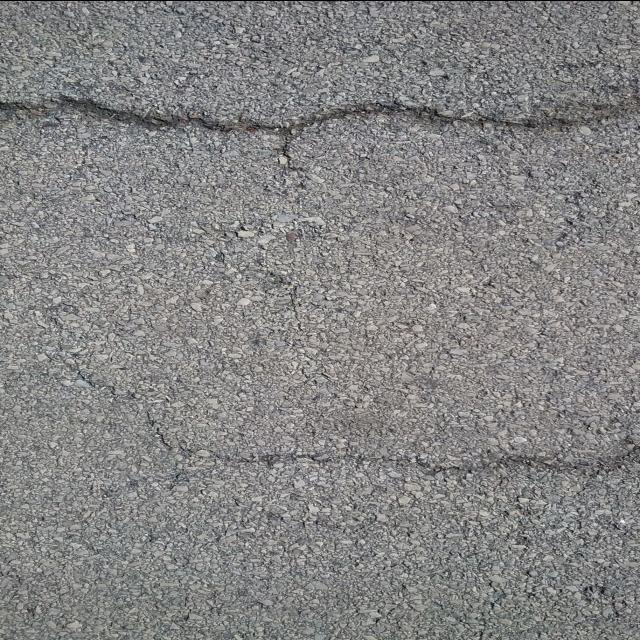Crack: (51, 318, 640, 489), (0, 91, 640, 190)
